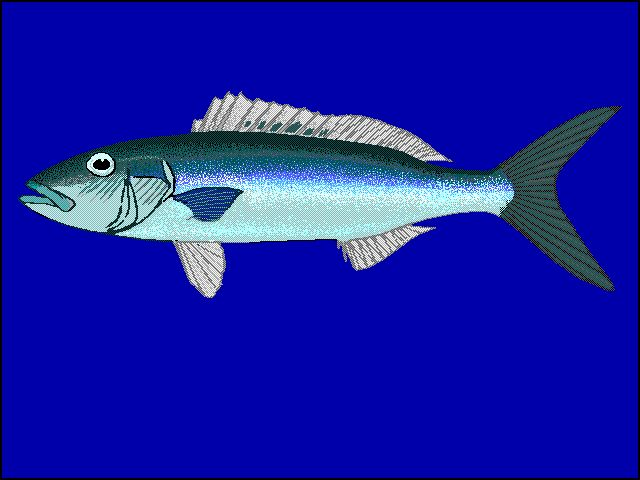fish: (21, 92, 615, 297)
